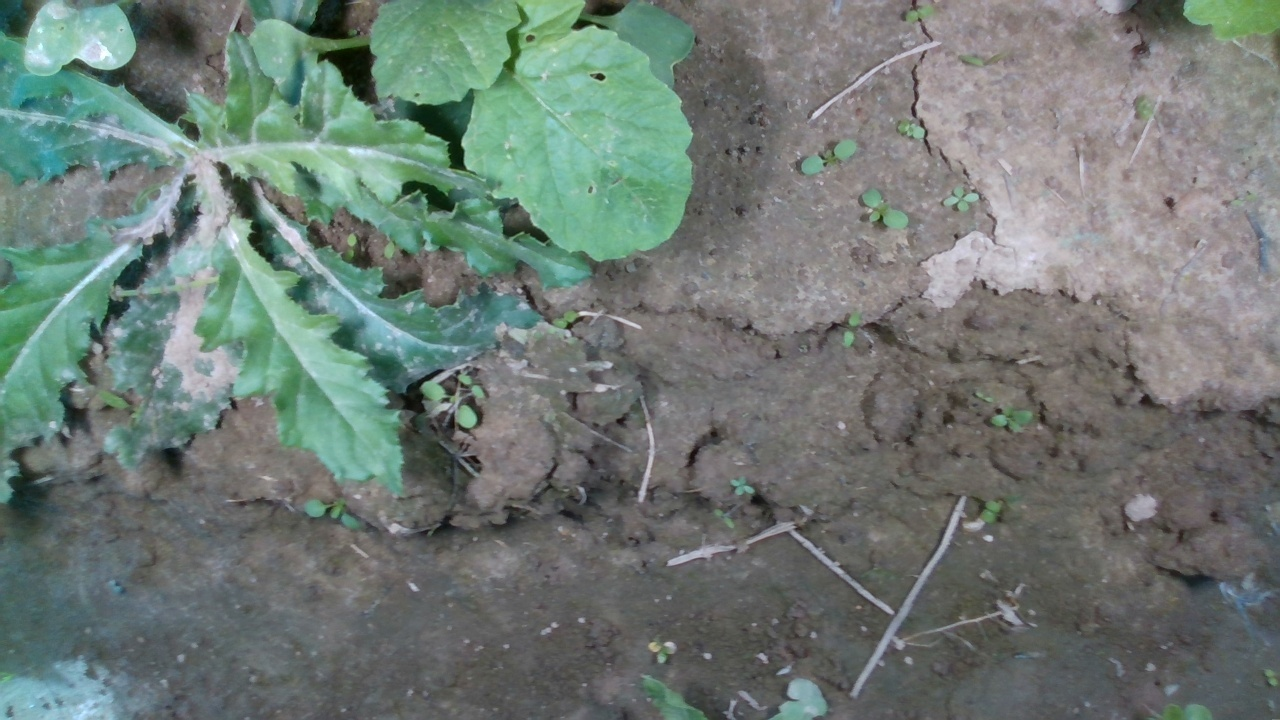weed: (798, 138, 857, 177), (861, 187, 909, 231), (939, 183, 980, 212), (645, 632, 677, 665), (840, 307, 863, 351), (895, 118, 926, 140), (978, 498, 1000, 526), (1263, 666, 1277, 691), (973, 391, 995, 404)
